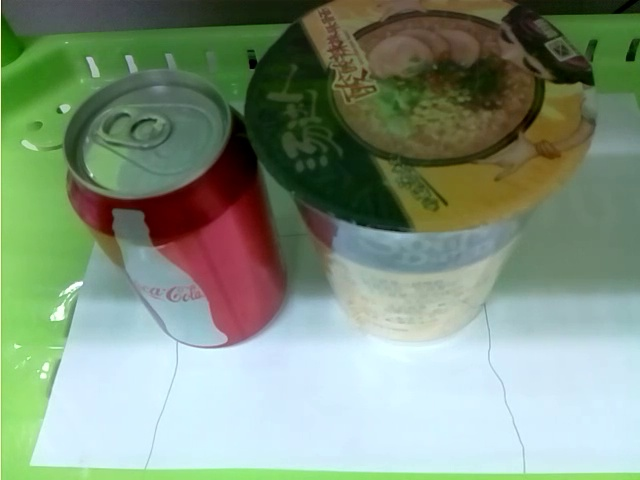cocacola: (64, 71, 288, 347)
noodles: (245, 1, 600, 344)
